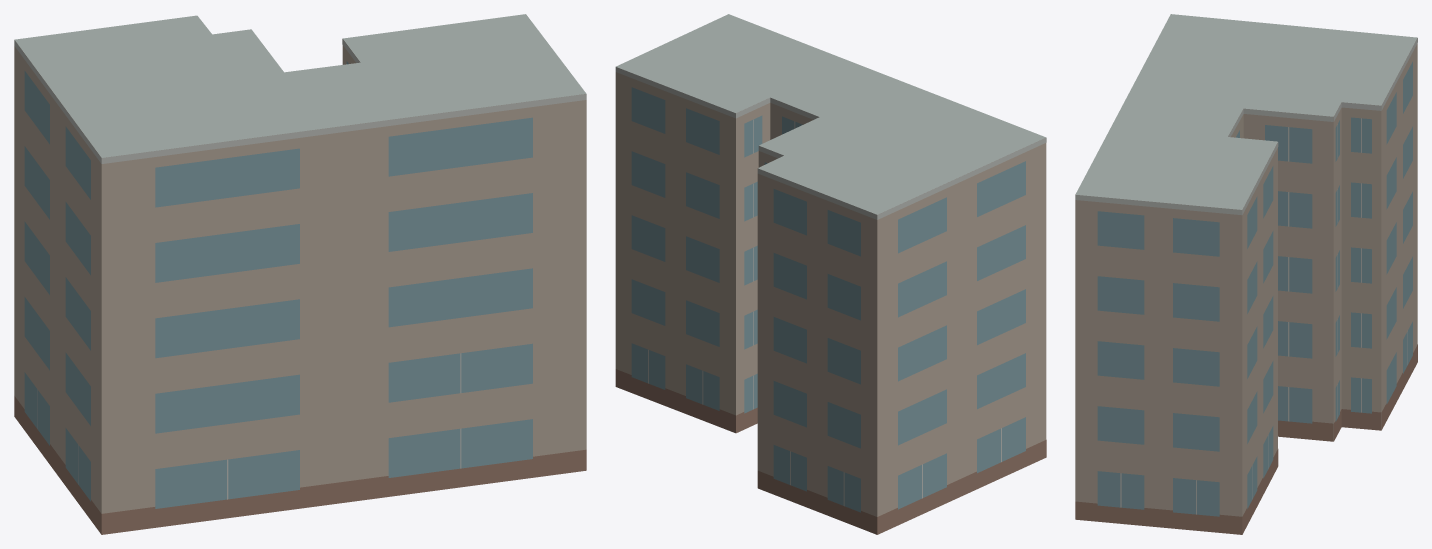
Rendered from survey-upis-32751902.glb.
3 renders of one model, left to right at view 1: azimuth 30°, elevation 25°; view 2: azimuth 150°, elevation 25°; view 3: azimuth 270°, elevation 25°, orthographic. The views are drawn at different scales.
Visible parts, largest first — view 1: survey-upis-32751902.tmp; view 2: survey-upis-32751902.tmp; view 3: survey-upis-32751902.tmp.
Boxes of the visible parts, box(x1,y1,x2,y2) form: survey-upis-32751902.tmp: box(14, 14, 586, 534); survey-upis-32751902.tmp: box(615, 14, 1046, 534); survey-upis-32751902.tmp: box(1075, 14, 1417, 534).
Size of the model in its own units: 19.48 by 15.05 by 14.39.
